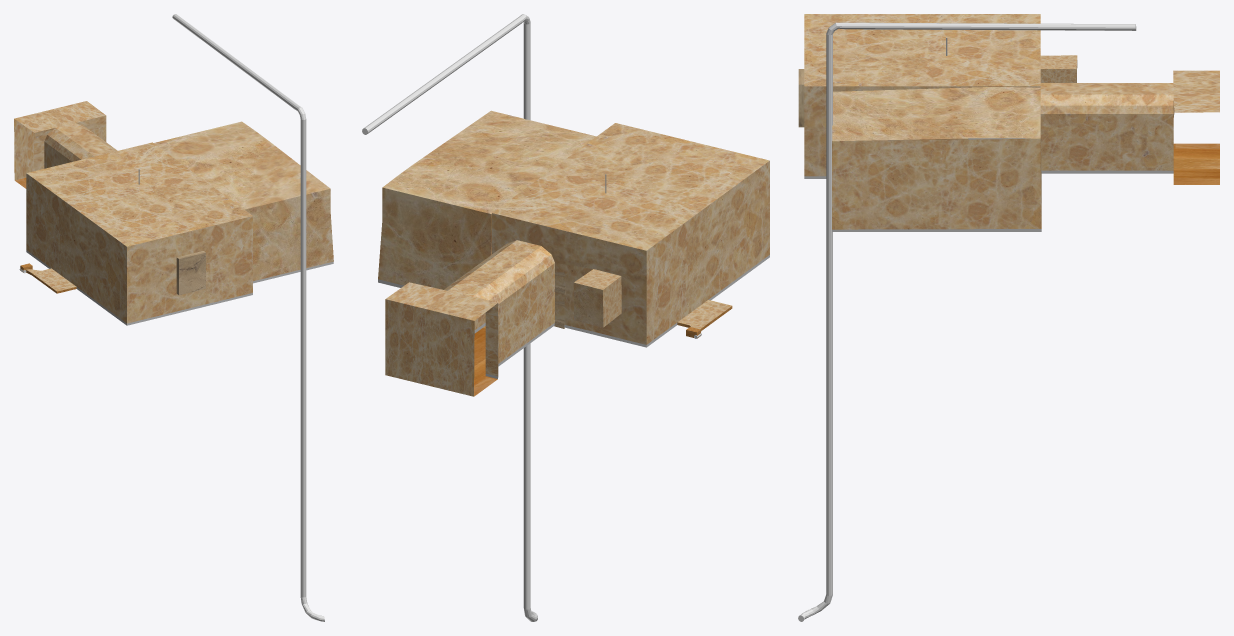
Rendered from museumRoom1.fbx.
3 renders of one model, left to right at view 1: azimuth 30°, elevation 25°; view 2: azimuth 150°, elevation 25°; view 3: azimuth 270°, elevation 25°, orthographic. The views are drawn at different scales.
Parts seen in each view (by area): view 1: Plane.001, Cylinder.006, Cube.007; view 2: Plane.001, Cylinder.006; view 3: Plane.001, Cylinder.006.
Part boxes in pixels (box(x1,y1,x2,y2)): Plane.001: box(14, 101, 333, 325); Cylinder.006: box(172, 14, 324, 621); Cube.007: box(176, 251, 205, 295); Plane.001: box(378, 110, 769, 396); Cylinder.006: box(362, 14, 537, 621); Plane.001: box(804, 14, 1219, 231); Cylinder.006: box(798, 22, 1136, 621).
Bounding box in the file's own units: 387 × 770 × 496.
